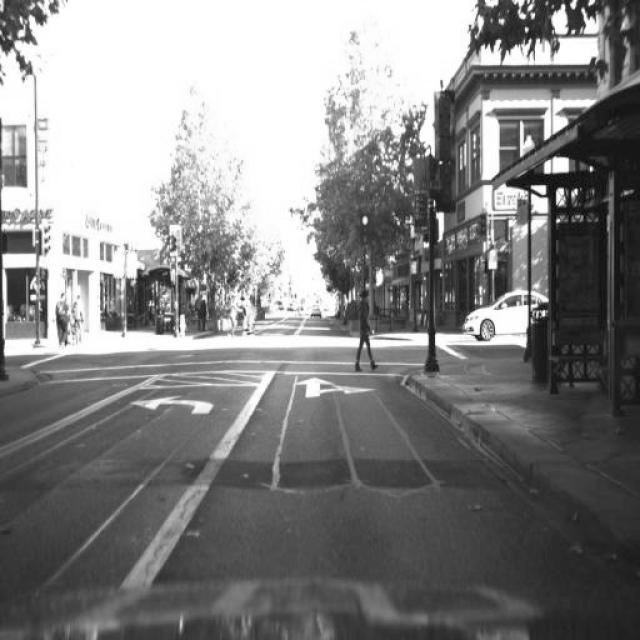semaforo: (360, 213, 370, 245)
